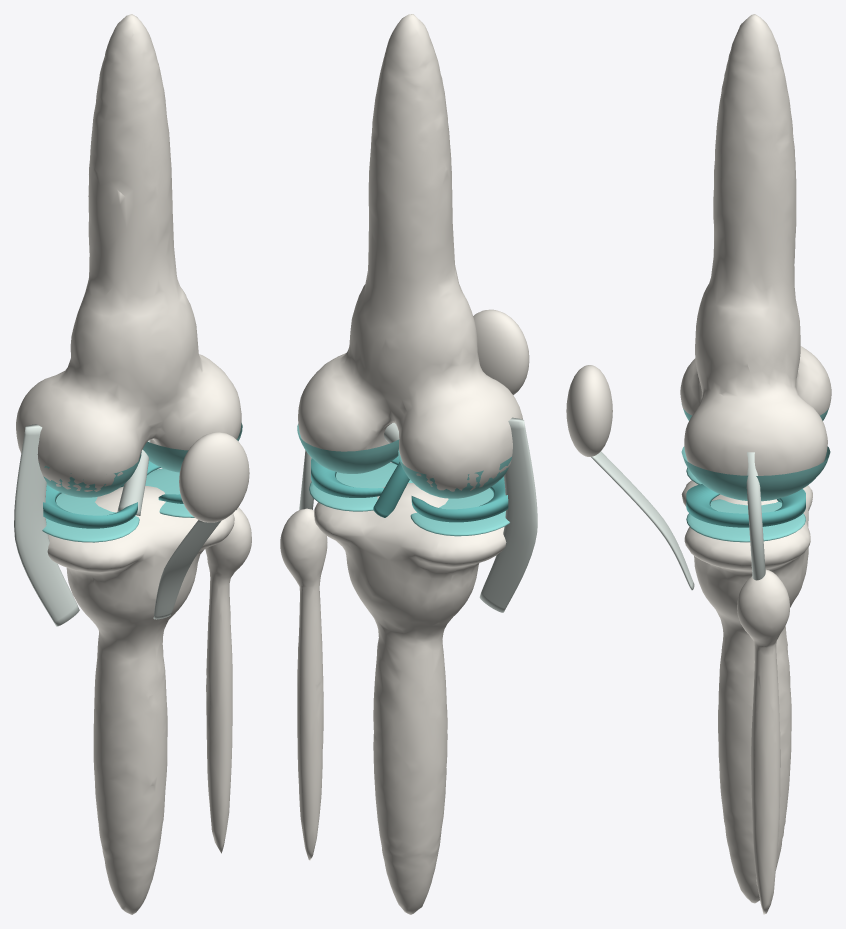
The model's file is knee-overview.glb.
The picture shows the model from 3 angles, left to right: view 1: azimuth 30°, elevation 25°; view 2: azimuth 150°, elevation 25°; view 3: azimuth 270°, elevation 25°; orthographic projection.
Parts seen in each view (by area): view 1: static #eee5d3, lower-leg #eee5d3, static #c7ddd2, lower-leg #49bdb4, static #49bdb4, lower-leg #258985; view 2: static #eee5d3, lower-leg #eee5d3, static #c7ddd2, lower-leg #49bdb4, static #49bdb4, lower-leg #258985, static #258985; view 3: static #eee5d3, lower-leg #eee5d3, static #c7ddd2, static #49bdb4, lower-leg #258985, lower-leg #49bdb4.
Part boxes in pixels (left/top/right/bottom): static #eee5d3: left=16, top=14, right=249, bottom=522; lower-leg #eee5d3: left=47, top=486, right=251, bottom=914; static #c7ddd2: left=14, top=424, right=236, bottom=626; lower-leg #49bdb4: left=42, top=468, right=194, bottom=542; static #49bdb4: left=39, top=422, right=242, bottom=497; lower-leg #258985: left=43, top=461, right=183, bottom=528; static #eee5d3: left=298, top=14, right=529, bottom=491; lower-leg #eee5d3: left=280, top=483, right=506, bottom=914; static #c7ddd2: left=299, top=417, right=537, bottom=612; lower-leg #49bdb4: left=309, top=462, right=509, bottom=536; static #49bdb4: left=297, top=424, right=511, bottom=498; lower-leg #258985: left=311, top=456, right=508, bottom=522; static #258985: left=373, top=462, right=409, bottom=517; static #eee5d3: left=566, top=14, right=831, bottom=475; lower-leg #eee5d3: left=681, top=480, right=812, bottom=914; static #c7ddd2: left=591, top=451, right=765, bottom=590; static #49bdb4: left=681, top=404, right=830, bottom=501; lower-leg #258985: left=686, top=484, right=805, bottom=527; lower-leg #49bdb4: left=686, top=467, right=805, bottom=542.
Size of the model in its own units: 0.2267 by 0.8002 by 0.2168.
